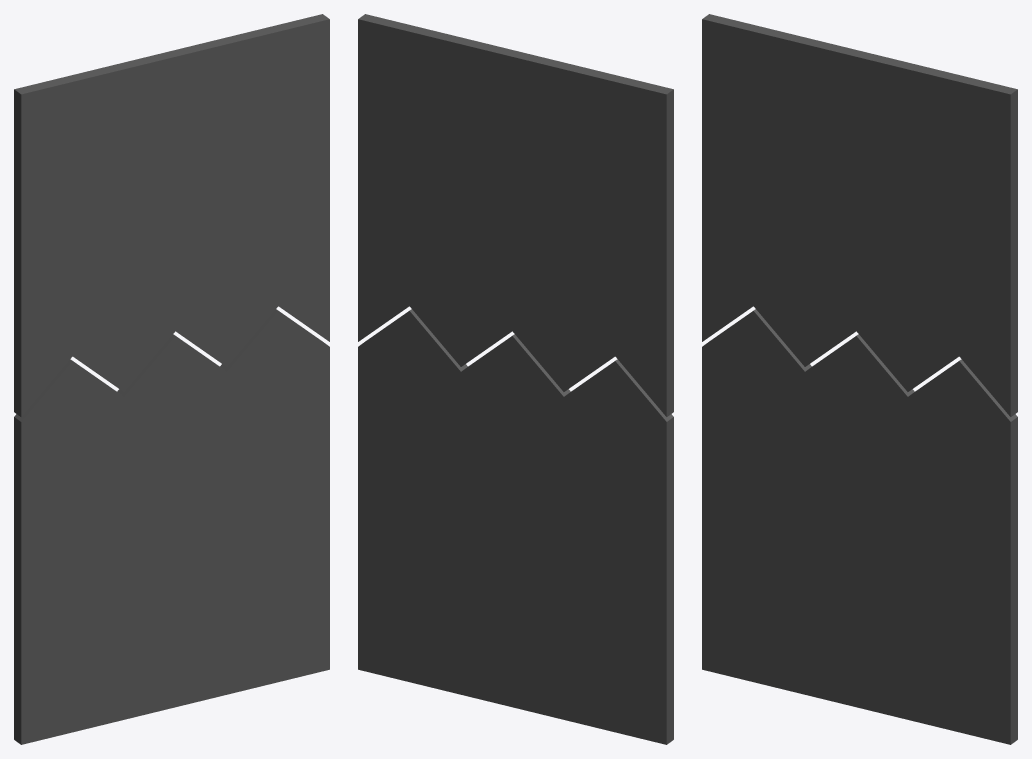
File: SnapTrap.glb
3 views of the same model, side by side, from view 1: azimuth 30°, elevation 25°; view 2: azimuth 150°, elevation 25°; view 3: azimuth 330°, elevation 25° (orthographic).
Parts seen in each view (by area): view 1: Cube, Cube.001; view 2: Cube, Cube.001; view 3: Cube, Cube.001.
Part boxes in pixels (left/top/right/bottom): Cube: left=14, top=309, right=329, bottom=744; Cube.001: left=14, top=14, right=329, bottom=416; Cube: left=358, top=309, right=673, bottom=744; Cube.001: left=358, top=14, right=673, bottom=416; Cube: left=702, top=309, right=1017, bottom=744; Cube.001: left=702, top=14, right=1017, bottom=416.
Bounding box in the file's own units: 2 × 4.03 × 0.0795.
Materials: 1 (1 with a texture image).
